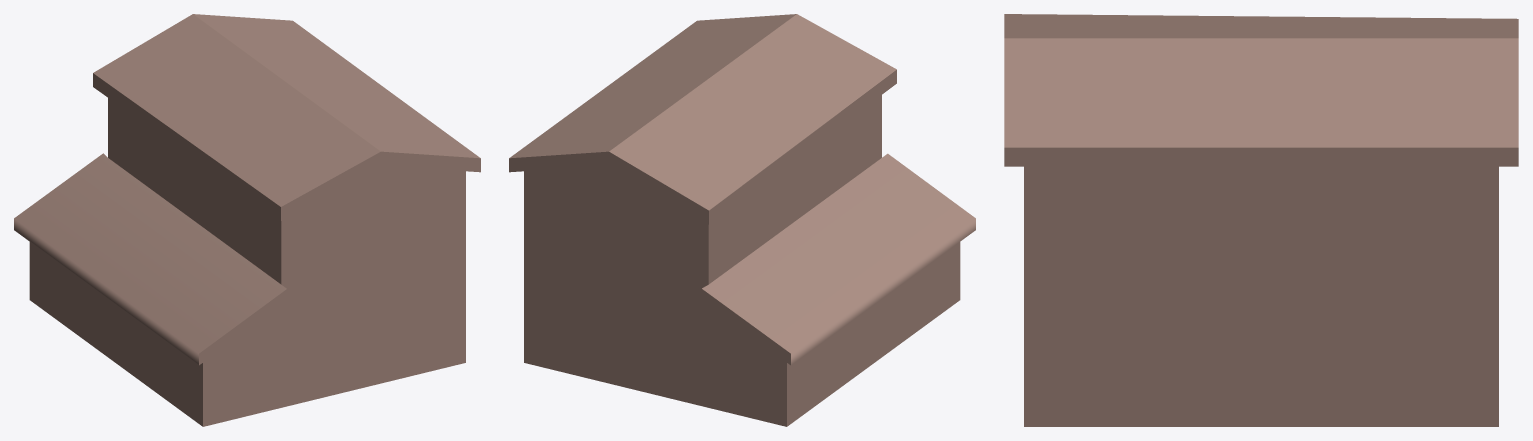
The model's file is house_b_01.fbx.
3 views of the same model, side by side, from view 1: azimuth 30°, elevation 25°; view 2: azimuth 150°, elevation 25°; view 3: azimuth 270°, elevation 25° (orthographic). The views are drawn at different scales.
Parts seen in each view (by area): view 1: house_b; view 2: house_b; view 3: house_b.
Part boxes in pixels (x1=…): house_b: x1=14, y1=14, x2=480, y2=426; house_b: x1=509, y1=14, x2=975, y2=426; house_b: x1=1004, y1=14, x2=1518, y2=426.
Size of the model in its own units: 15.71 by 12.79 by 18.24.
